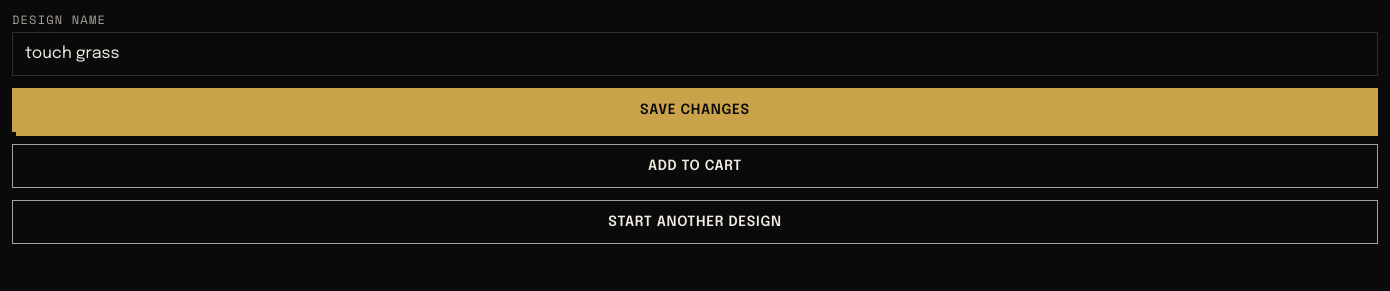
Add to cart › skips the save when the design is already saved and unchanged
This screenshot has width=1390, height=291.
Click the button "Add to cart".
click(695, 166)  # box [12,144,1378,188]
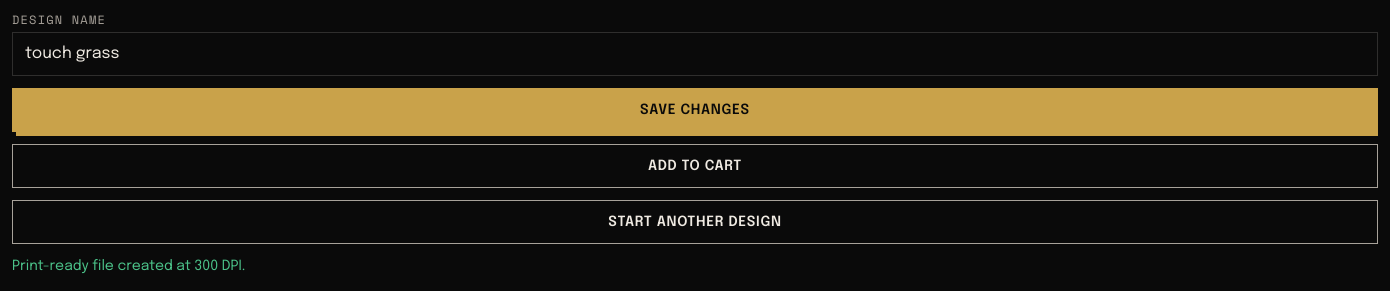
Expected: the text "Print-ready file created at 300 DPI." is shown, [12,259,245,273]
